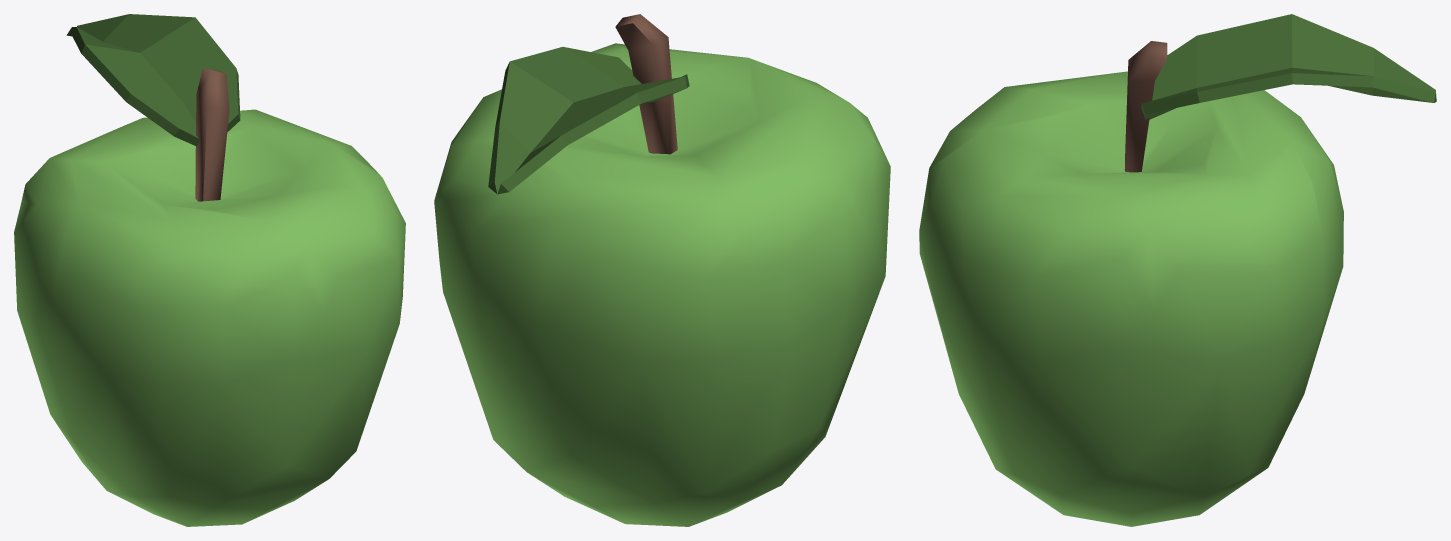
Rendered from green_14.glb.
The picture shows the model from 3 angles, left to right: view 1: azimuth 30°, elevation 25°; view 2: azimuth 150°, elevation 25°; view 3: azimuth 270°, elevation 25°; orthographic projection. The views are drawn at different scales.
Visible parts, largest first — view 1: green_14; view 2: green_14; view 3: green_14.
Boxes of the visible parts, x1,y1,x2,y2 form: green_14: (14,14,405,526); green_14: (434,14,890,526); green_14: (919,14,1436,526).
Bounding box in the file's own units: 0.1729 × 0.2131 × 0.2107.
Materials: 1 (1 with a texture image).
